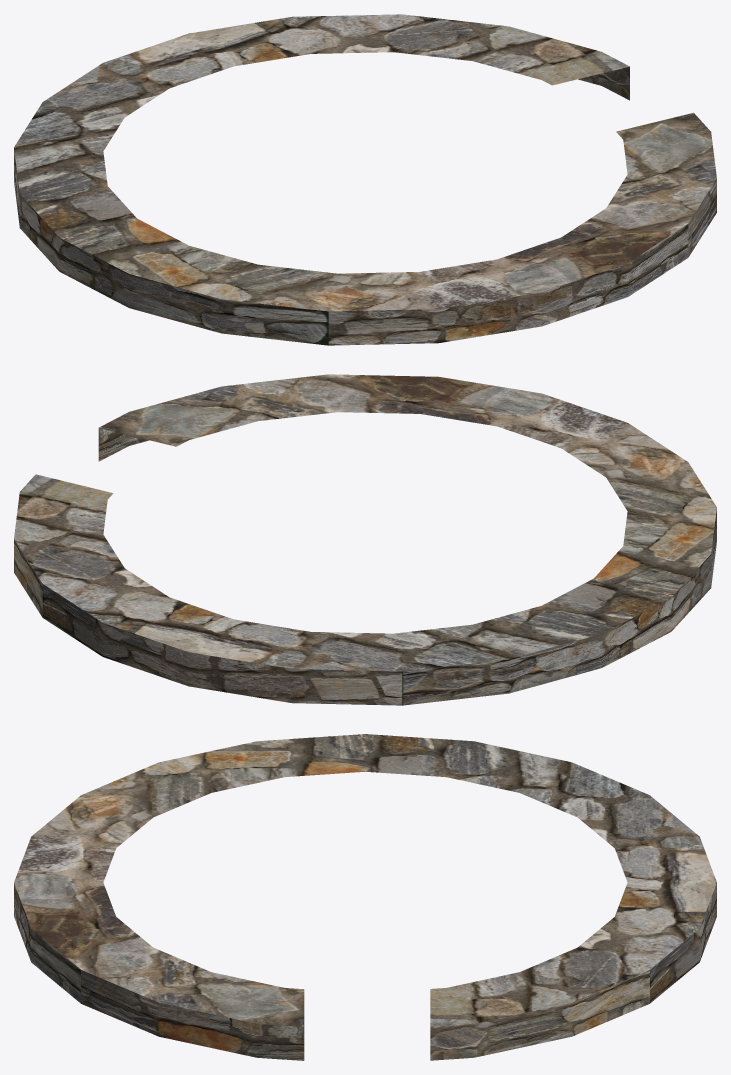
Rendered from basePiedra.obj.
3 views of the same model, one above another, from view 1: azimuth 30°, elevation 25°; view 2: azimuth 150°, elevation 25°; view 3: azimuth 270°, elevation 25° (orthographic).
Visible parts, largest first — view 1: pCylinder11; view 2: pCylinder11; view 3: pCylinder11.
Boxes of the visible parts, x1,y1,x2,y2 form: pCylinder11: (14, 14, 716, 345); pCylinder11: (14, 374, 716, 705); pCylinder11: (14, 734, 716, 1060).
Size of the model in its own units: 18.53 by 1 by 18.79.
1 material, 1 textured.
